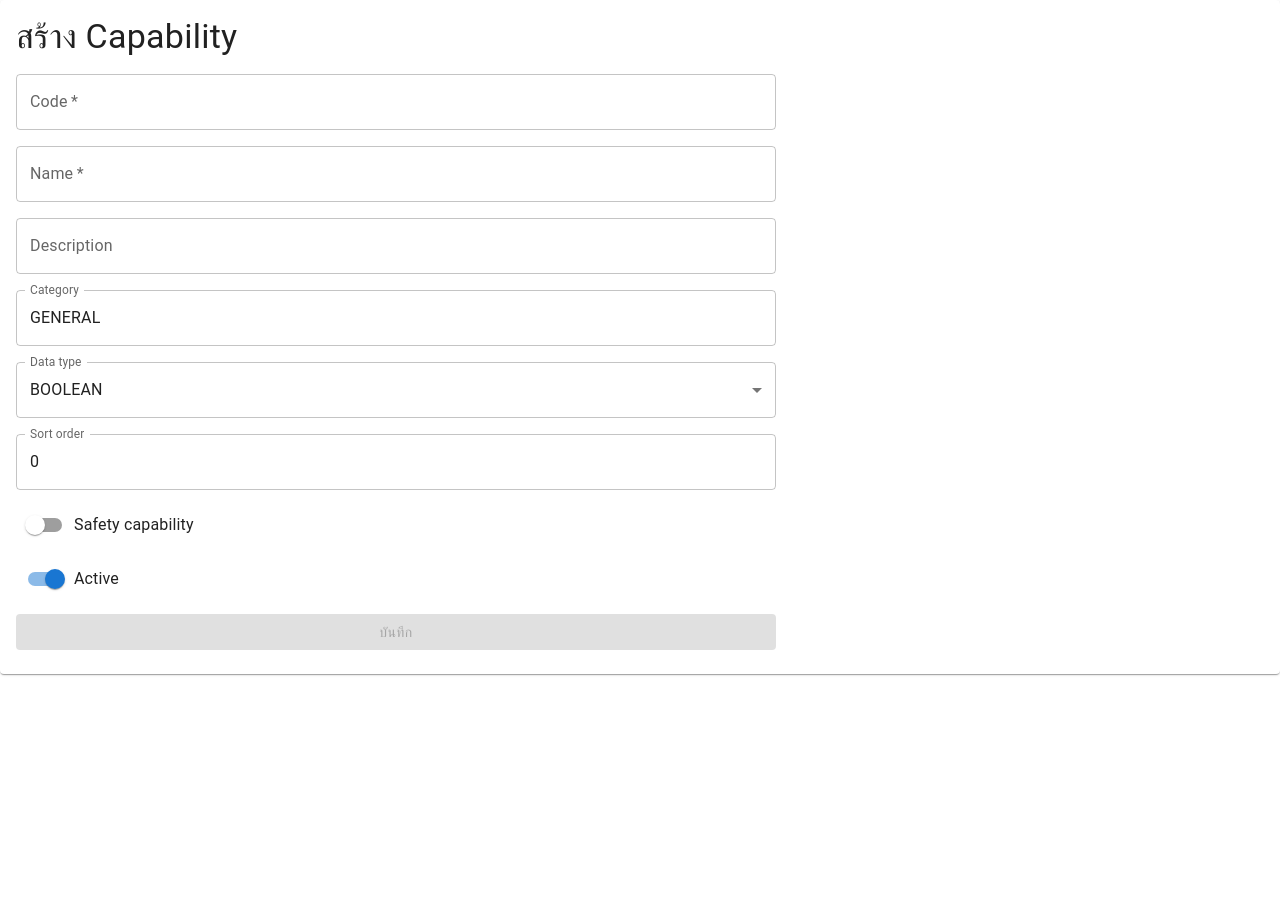
Test: Fleet M4.2 capability UI › requires enum options
In the field labelled "Code *": (396, 102) 16,74 -> 776,130, type "ENUM"
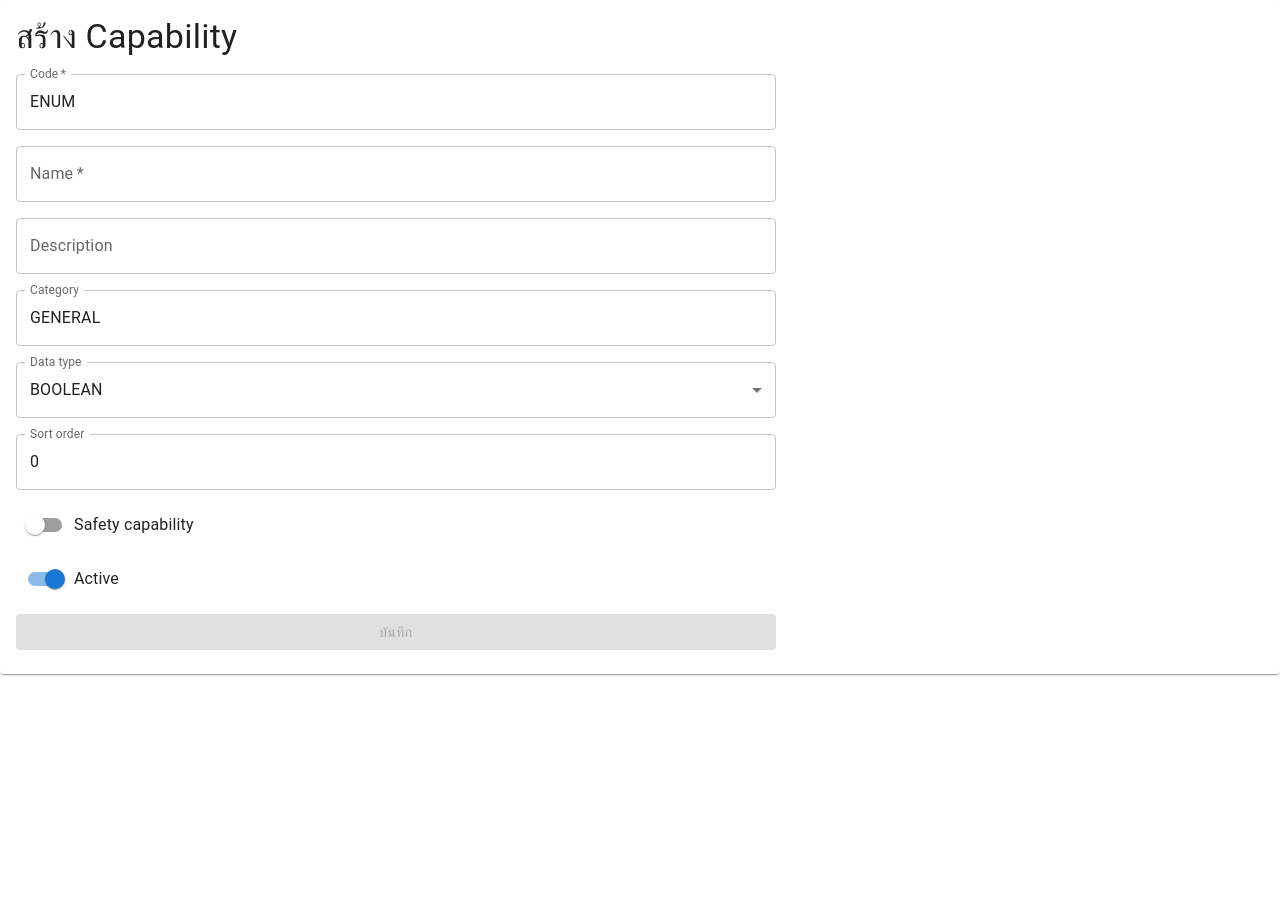
In the field labelled "Name *": (396, 174) 16,146 -> 776,202, type "Enum"
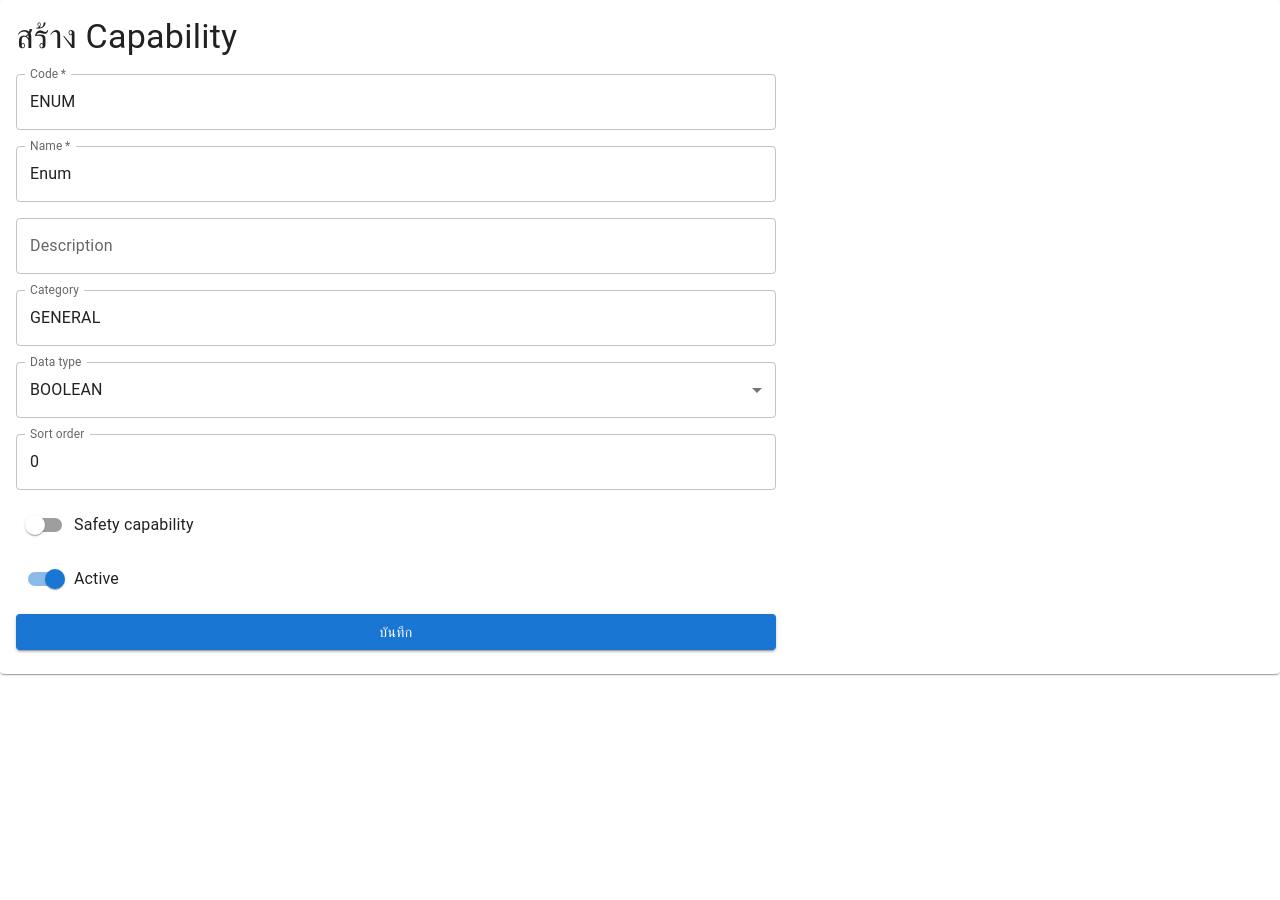
Press the mouse on the dropdown named "Data type": (66, 390) 30,380 -> 103,400
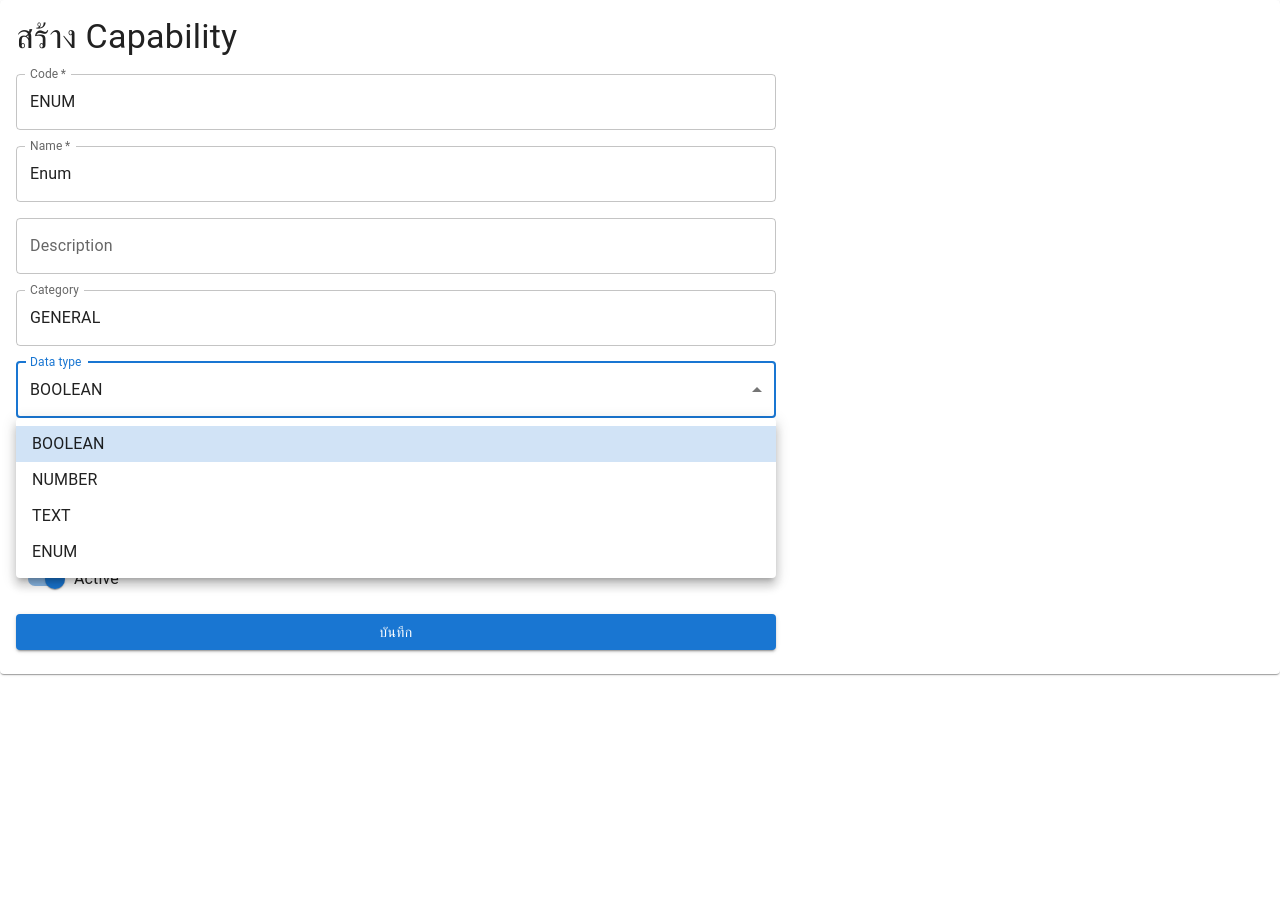
Click the option "ENUM": (55, 552) 32,542 -> 78,561
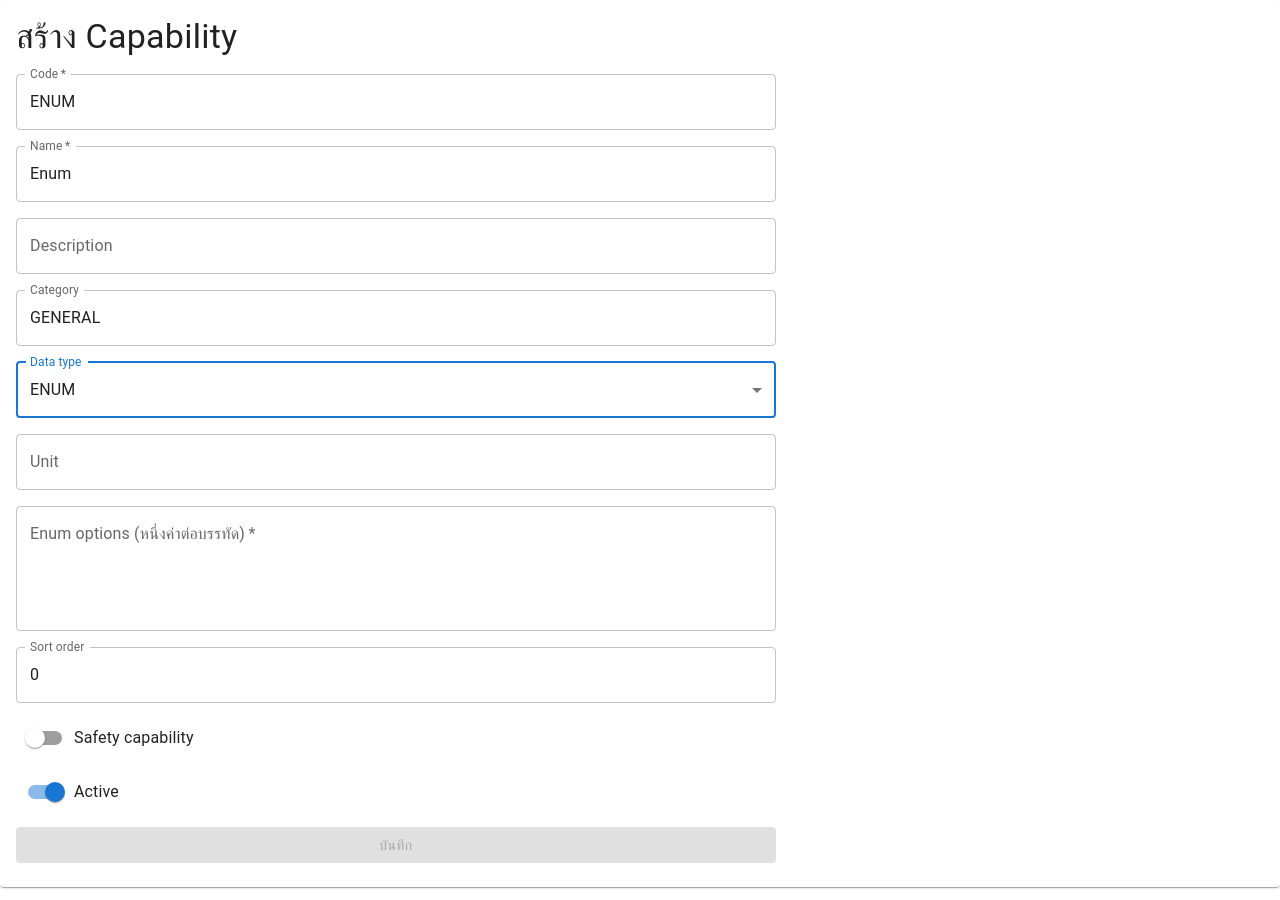
Now the button "บันทึก" is disabled, box 16,827 -> 776,864
